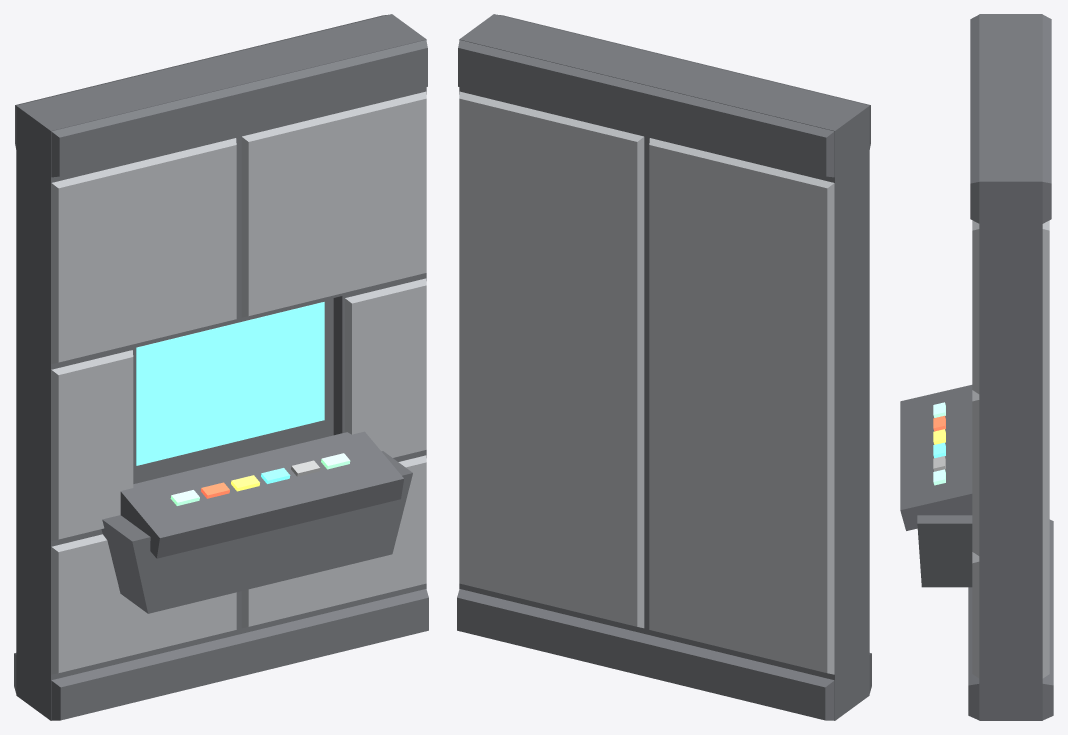
File: SM_Wall_Console.glb
The picture shows the model from 3 angles, left to right: view 1: azimuth 30°, elevation 25°; view 2: azimuth 150°, elevation 25°; view 3: azimuth 270°, elevation 25°; orthographic projection. The views are drawn at different scales.
Visible parts, largest first — view 1: SM_Wall_Console; view 2: SM_Wall_Console; view 3: SM_Wall_Console.
Part boxes in pixels (<box>): SM_Wall_Console: <box>14,14,428,720</box>; SM_Wall_Console: <box>457,14,871,720</box>; SM_Wall_Console: <box>900,14,1053,720</box>.
Size of the model in its own units: 2 by 3 by 0.7736.
